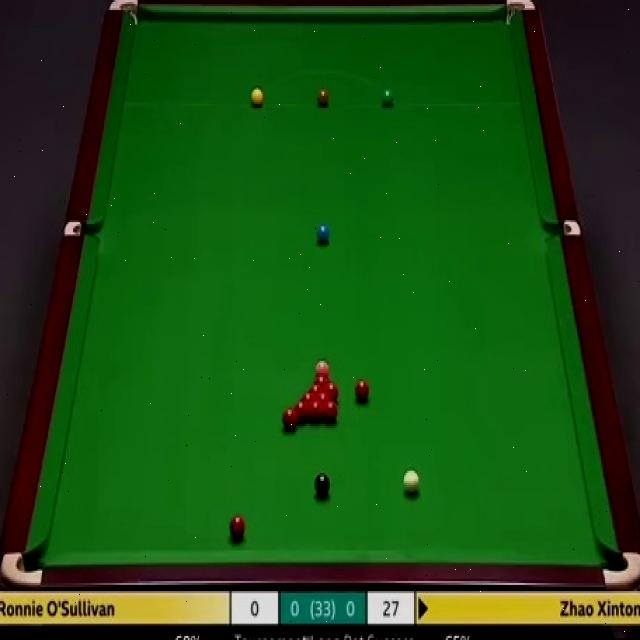black-ball: (314, 473, 331, 499)
blue-ball: (313, 222, 329, 245)
brown-ball: (318, 88, 331, 108)
green-ball: (380, 87, 394, 108)
pink-ball: (314, 359, 330, 374)
red-ball: (229, 515, 246, 543), (323, 401, 339, 424), (294, 400, 309, 422), (354, 378, 368, 401), (282, 407, 296, 430), (309, 401, 323, 422), (324, 381, 338, 400), (308, 383, 325, 395), (301, 392, 317, 404), (316, 392, 332, 404), (312, 374, 330, 384)
white-ball: (403, 469, 420, 495)
yellow-ball: (251, 88, 263, 108)
